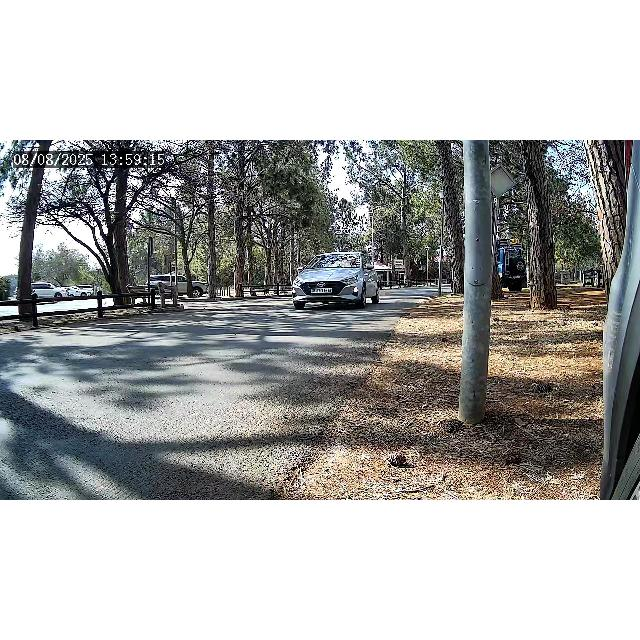car: (292, 251, 381, 311), (144, 272, 208, 300)
plate: (310, 288, 332, 294)
